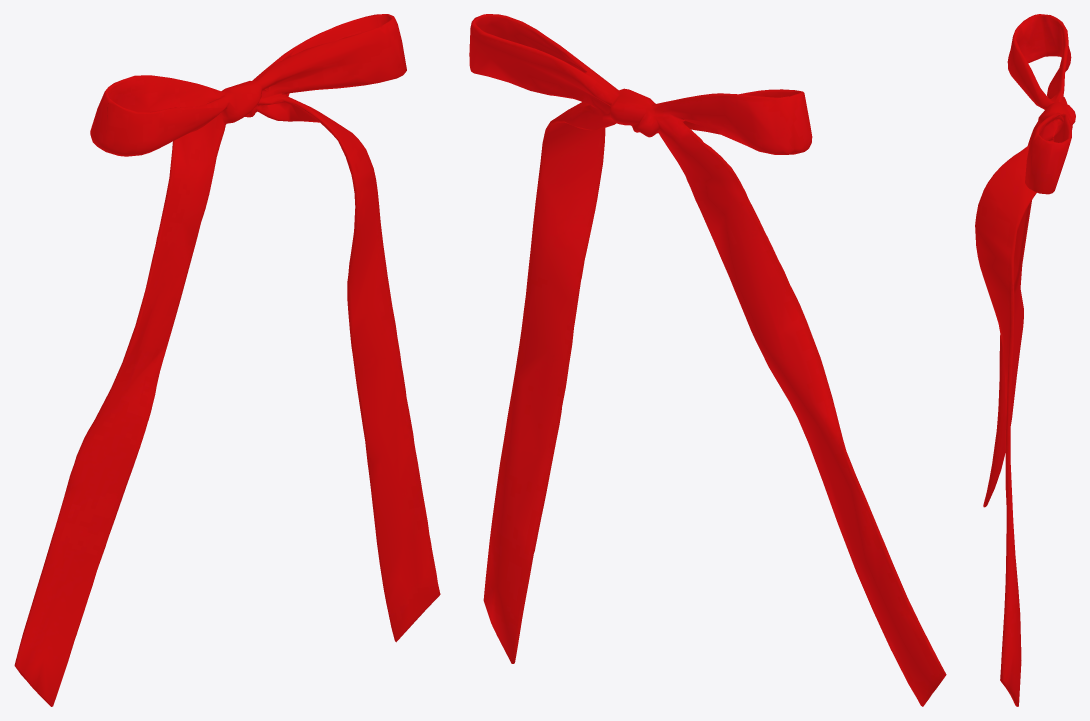
The model's file is Red_Ribbon_Bow.glb.
The picture shows the model from 3 angles, left to right: view 1: azimuth 30°, elevation 25°; view 2: azimuth 150°, elevation 25°; view 3: azimuth 270°, elevation 25°; orthographic projection. The views are drawn at different scales.
Parts seen in each view (by area): view 1: Mesh1.0; view 2: Mesh1.0; view 3: Mesh1.0.
Boxes of the visible parts, x1,y1,x2,y2 form: Mesh1.0: (14, 14, 440, 706); Mesh1.0: (469, 14, 946, 706); Mesh1.0: (975, 14, 1075, 706).
Size of the model in its own units: 0.1 by 0.1366 by 0.0218.
Materials: 1 (1 with a texture image).
